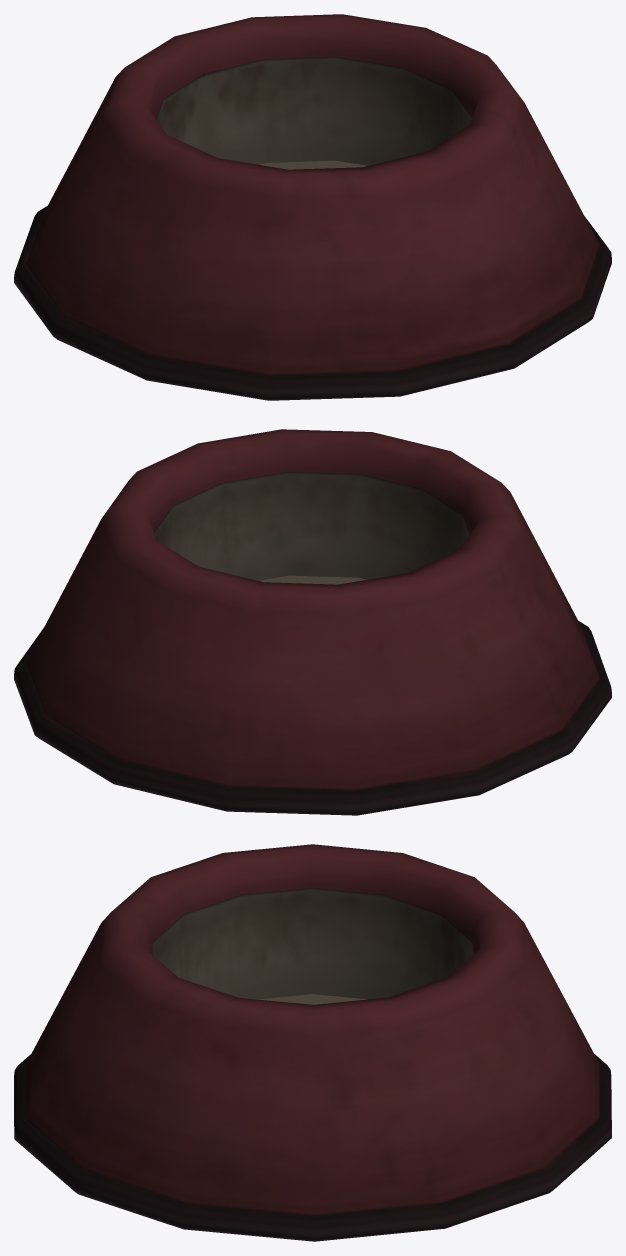
File: DogBowl.fbx
The picture shows the model from 3 angles, top to bottom: view 1: azimuth 30°, elevation 25°; view 2: azimuth 150°, elevation 25°; view 3: azimuth 270°, elevation 25°; orthographic projection. The views are drawn at different scales.
Visible parts, largest first — view 1: DogBowl4; view 2: DogBowl4; view 3: DogBowl4.
Part boxes in pixels (box(x1,y1,x2,y2)): DogBowl4: box(14, 14, 611, 400); DogBowl4: box(14, 429, 611, 815); DogBowl4: box(14, 844, 611, 1241).
Size of the model in its own units: 3.11 by 1.04 by 3.04.
